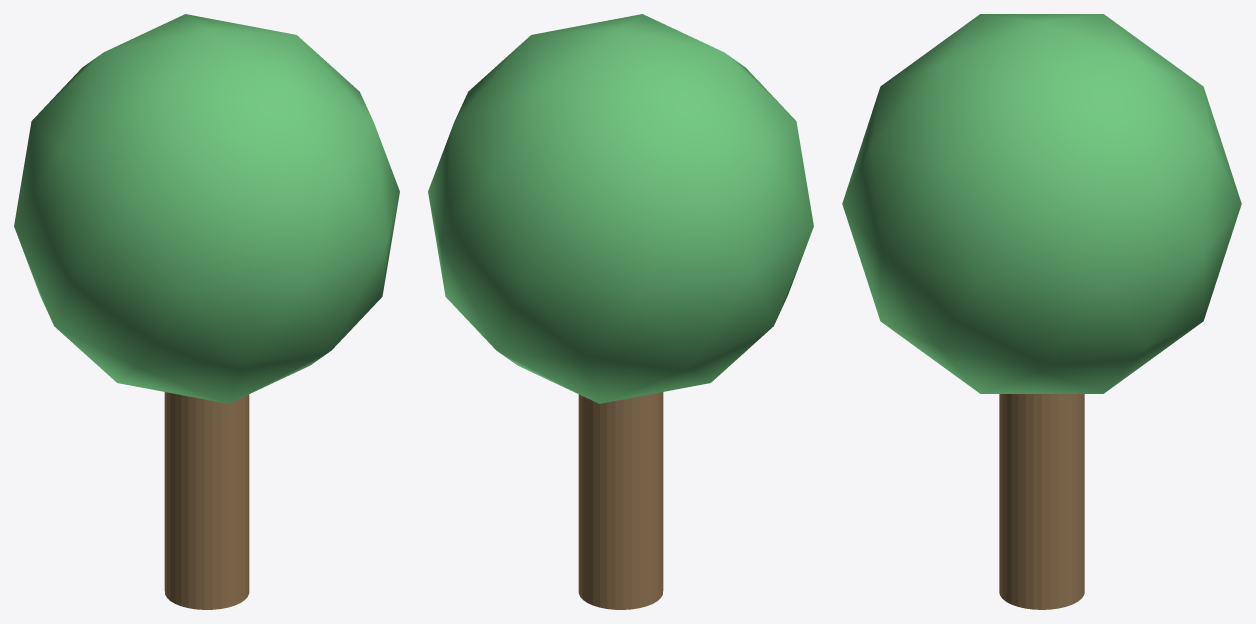
File: tree.glb
3 renders of one model, left to right at view 1: azimuth 30°, elevation 25°; view 2: azimuth 150°, elevation 25°; view 3: azimuth 270°, elevation 25°, orthographic.
Parts seen in each view (by area): view 1: TreeLeaves, TreeTrunk; view 2: TreeLeaves, TreeTrunk; view 3: TreeLeaves, TreeTrunk.
Part boxes in pixels (box(x1,y1,x2,y2)): TreeLeaves: box(14, 14, 399, 403); TreeTrunk: box(164, 392, 249, 609); TreeLeaves: box(428, 14, 813, 403); TreeTrunk: box(578, 392, 663, 609); TreeLeaves: box(842, 14, 1241, 393); TreeTrunk: box(999, 394, 1084, 609).
Size of the model in its own units: 1.33 by 2.2 by 1.4.
